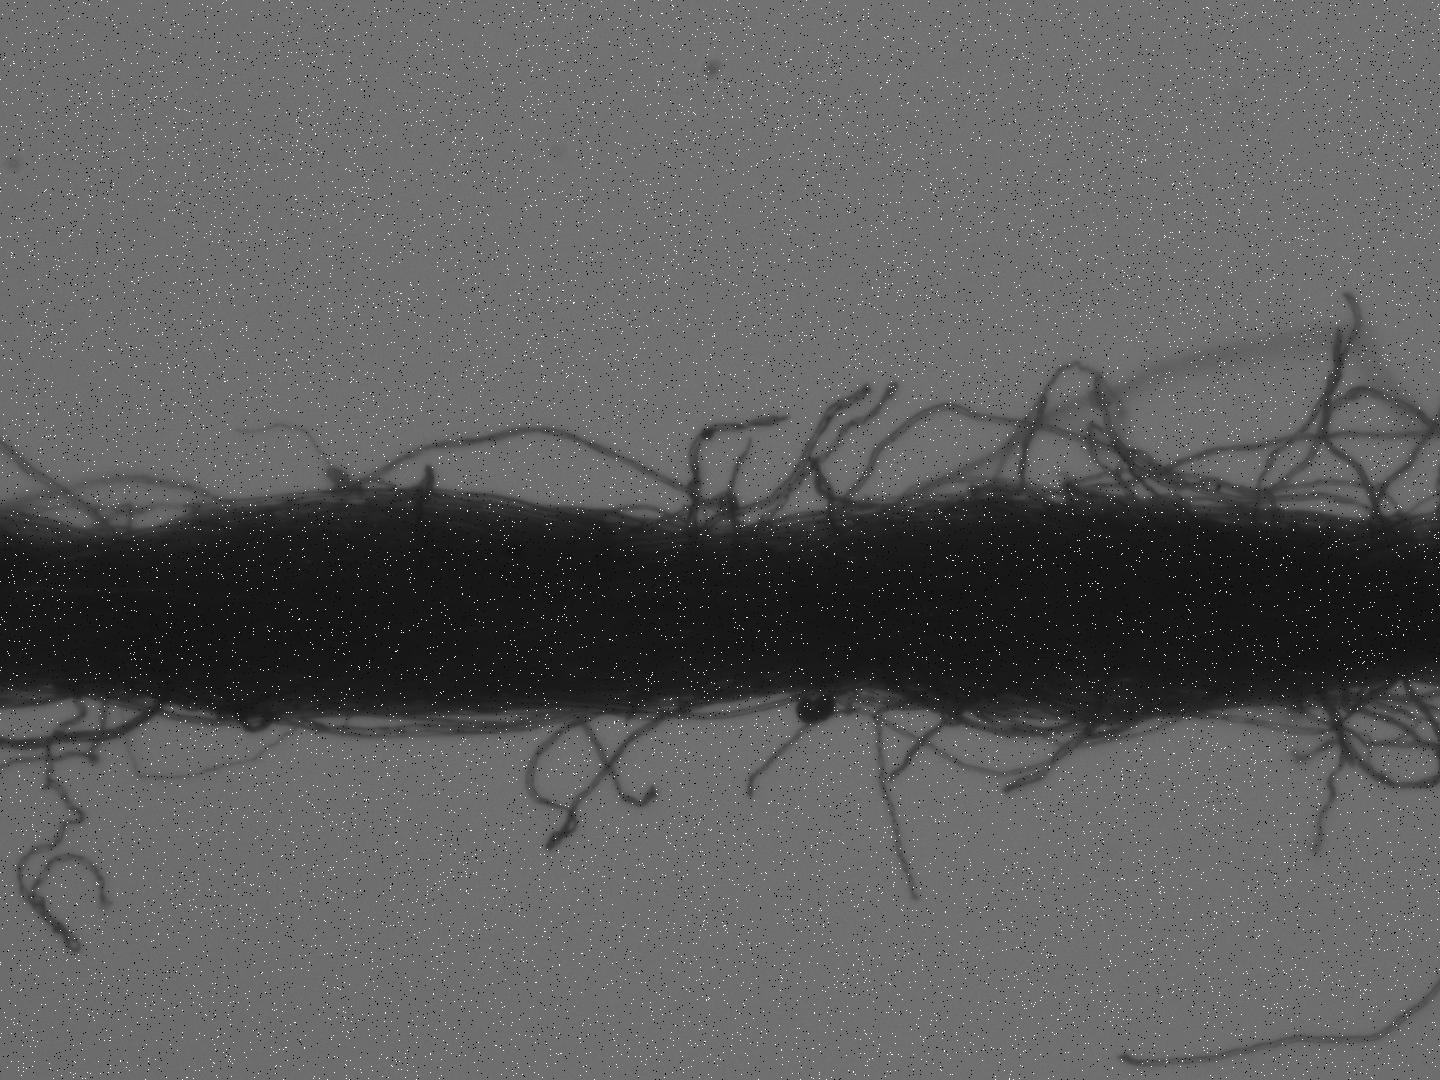loop_fiber: (322, 425, 748, 534), (840, 676, 1226, 796), (1013, 351, 1187, 521), (523, 707, 689, 857), (801, 453, 918, 541), (1227, 486, 1404, 538), (302, 712, 562, 742), (317, 456, 439, 516), (645, 484, 748, 549), (782, 673, 844, 731), (79, 495, 144, 545), (226, 702, 285, 737)
protruding_fiber: (744, 370, 905, 539), (1120, 995, 1439, 1066), (864, 690, 942, 906), (1302, 677, 1362, 864), (573, 716, 661, 809)
